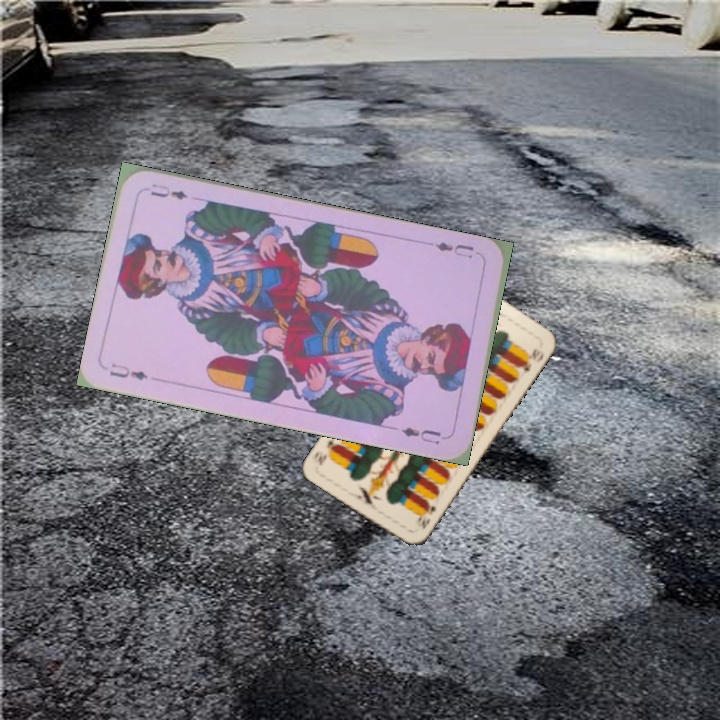E10: (412, 499, 438, 531)
EU: (105, 359, 150, 383), (431, 238, 477, 261)
